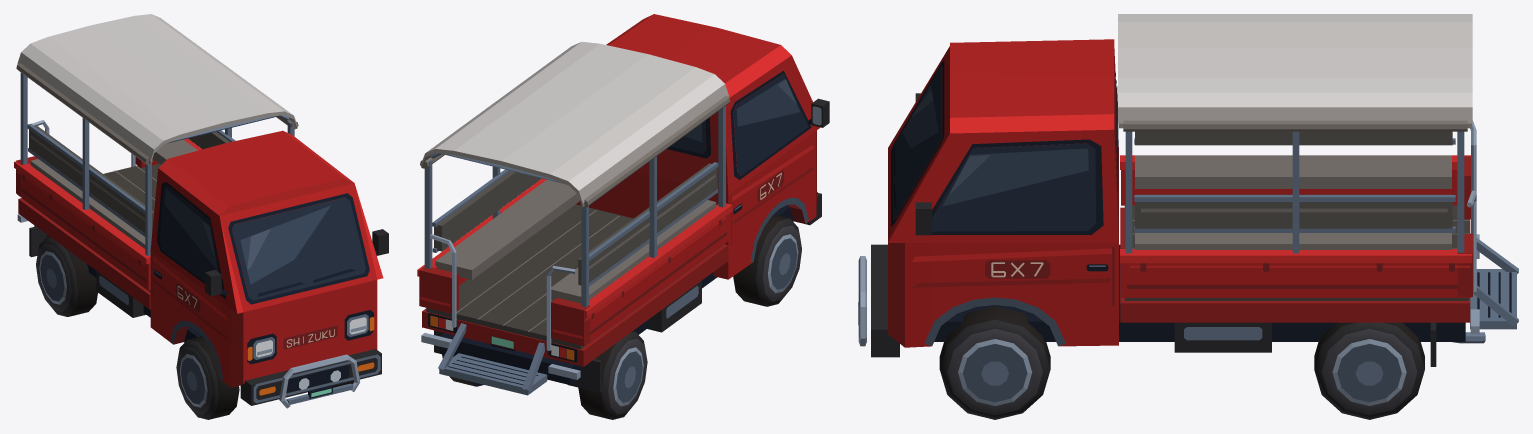
Rendered from multicab-red.glb.
3 renders of one model, left to right at view 1: azimuth 30°, elevation 25°; view 2: azimuth 150°, elevation 25°; view 3: azimuth 270°, elevation 25°, orthographic. The views are drawn at different scales.
Parts seen in each view (by area): view 1: Shizuku 6x7 - Red; view 2: Shizuku 6x7 - Red; view 3: Shizuku 6x7 - Red.
Boxes of the visible parts, bbox=[...] form: Shizuku 6x7 - Red: bbox=[14, 14, 388, 419]; Shizuku 6x7 - Red: bbox=[417, 14, 829, 419]; Shizuku 6x7 - Red: bbox=[858, 14, 1518, 419].
Size of the model in its own units: 1.71 by 2.24 by 4.13.
1 material, 1 textured.
